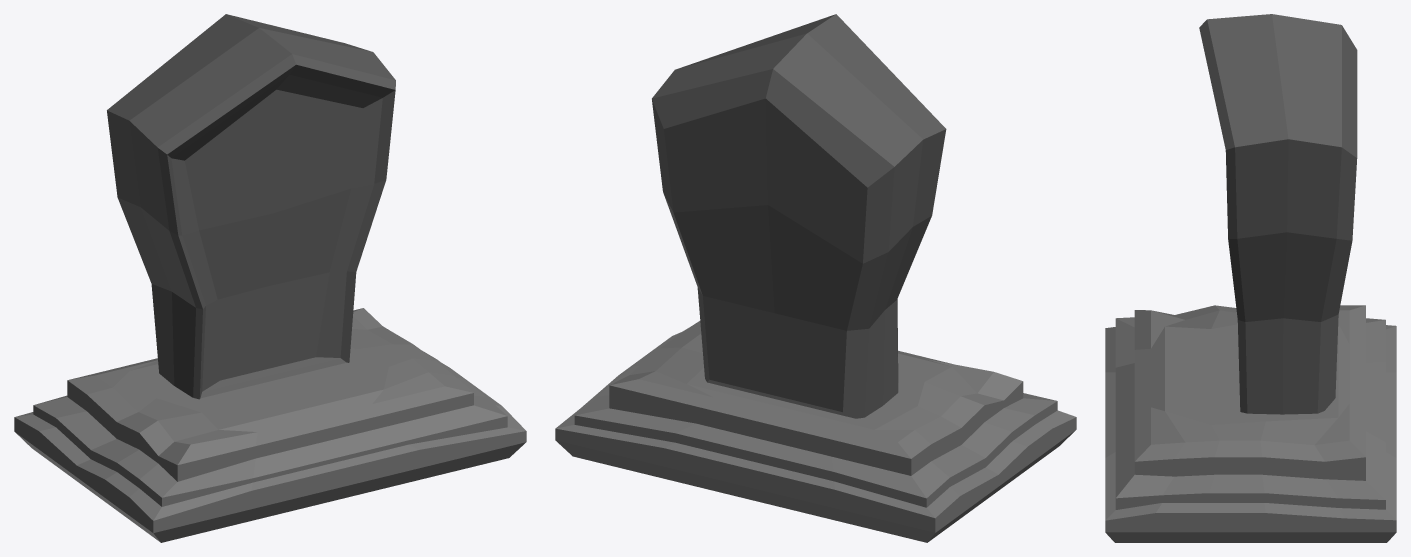
File: TombStone.fbx
The picture shows the model from 3 angles, left to right: view 1: azimuth 30°, elevation 25°; view 2: azimuth 150°, elevation 25°; view 3: azimuth 270°, elevation 25°; orthographic projection. The views are drawn at different scales.
Visible parts, largest first — view 1: TombStone; view 2: TombStone; view 3: TombStone.
Boxes of the visible parts, <box> form: TombStone: <box>14,14,526,542</box>; TombStone: <box>555,14,1076,542</box>; TombStone: <box>1105,14,1396,542</box>.
Bounding box in the file's own units: 161 × 173 × 104.
Materials: 1 (1 with a texture image).
